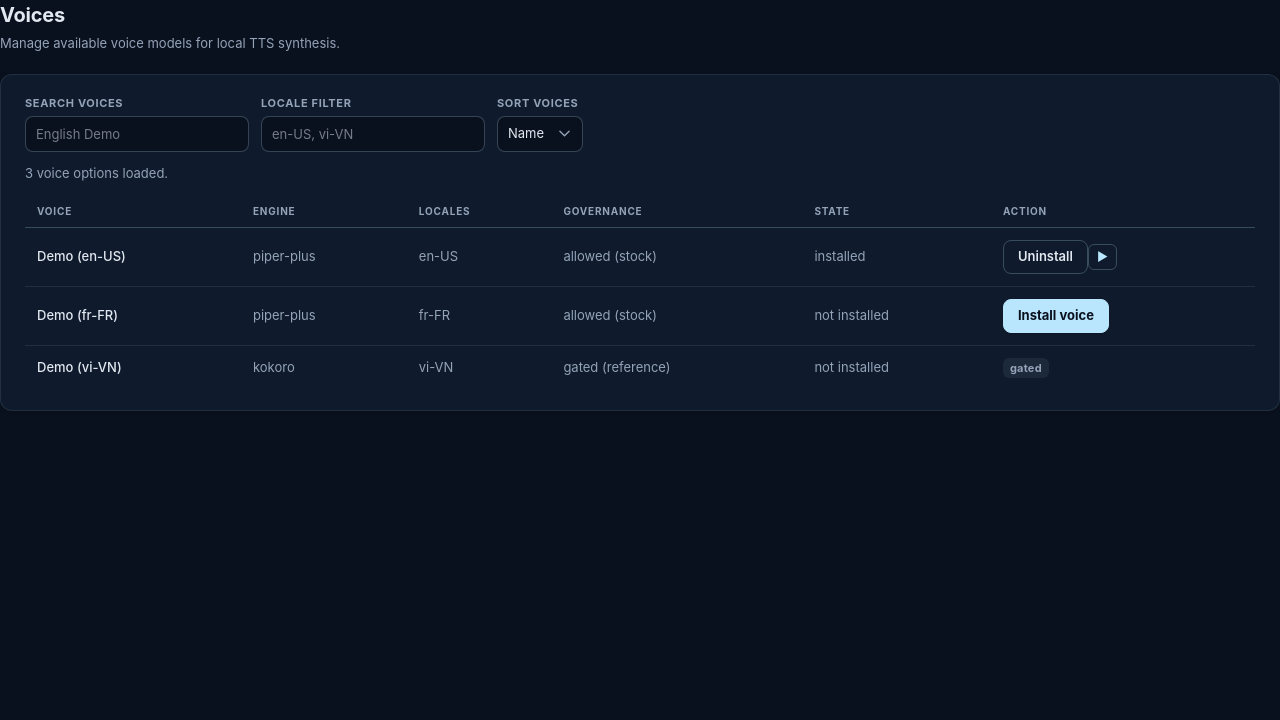
VoicesPanel › supports search, sort, and install polling states
Expected: the text "Demo (vi-VN)" is shown, [25, 345, 241, 390]
Select "Engine" in the dropdown labelled "Sort voices": (540, 134) [497, 116, 583, 152]
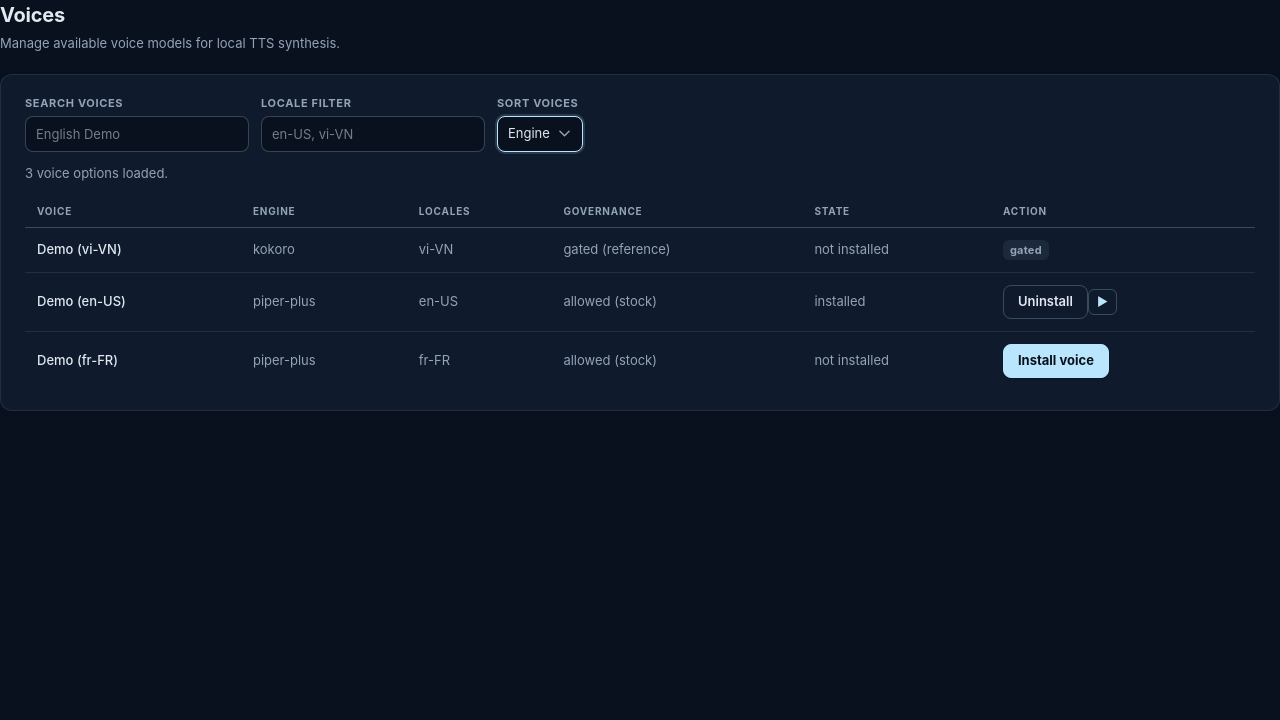
In the field labelled "Search voices": (137, 134) [25, 116, 249, 152], type "fr-FR"
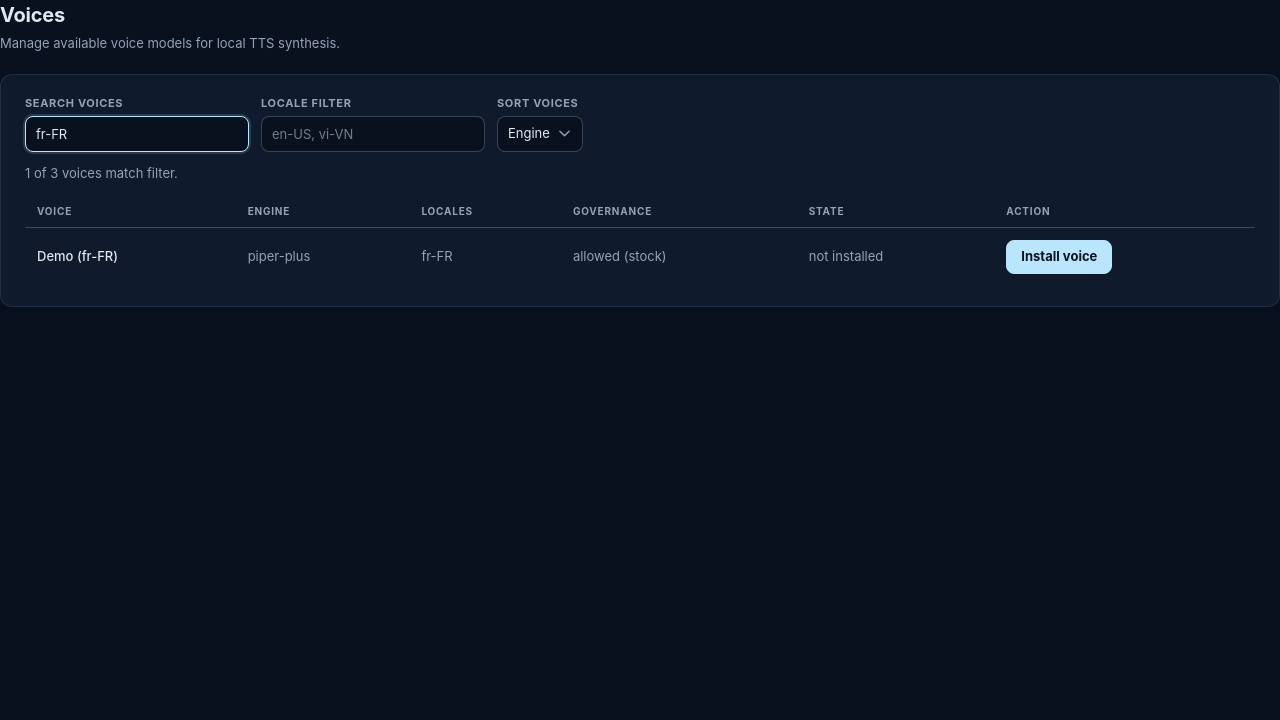
Expected: the text "Demo (en-US)" is not shown
Expected: the text "Demo (vi-VN)" is not shown
Click the button "Install voice": click(1059, 256) [1006, 240, 1112, 274]
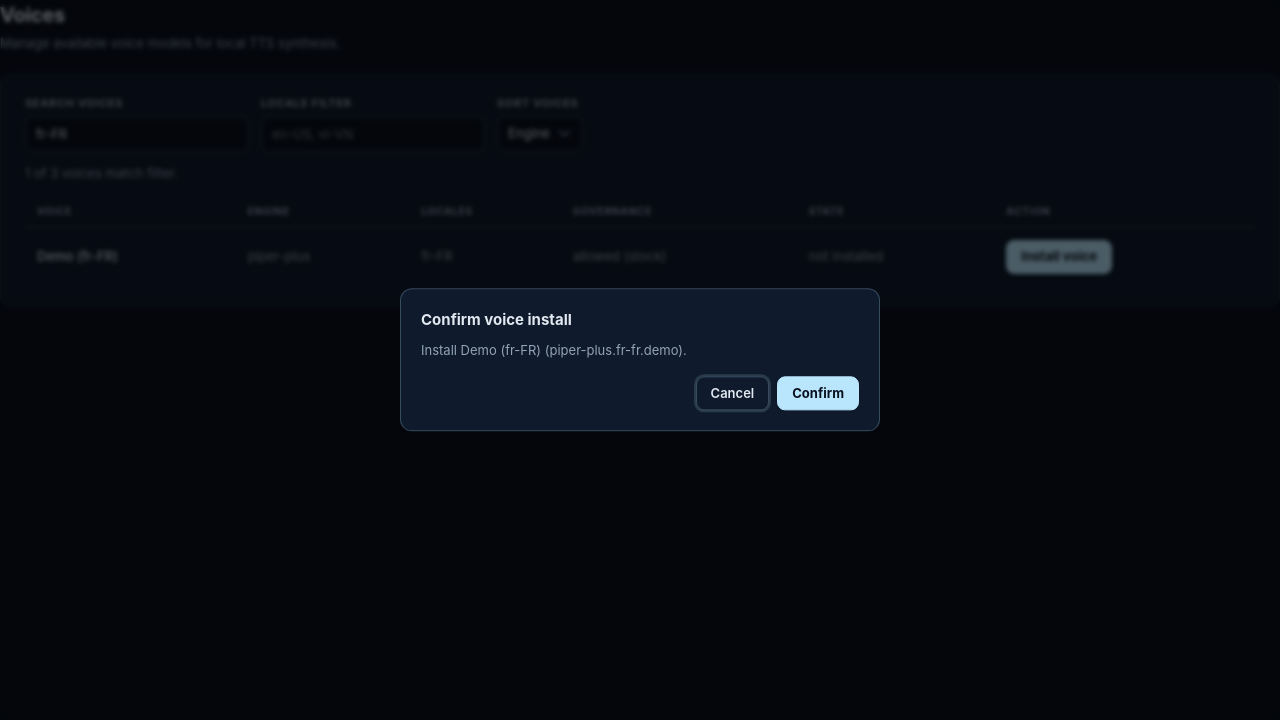
Expected: the heading "Confirm voice install" is shown, [421, 310, 572, 329]
Click the button "Confirm": click(818, 394) [777, 377, 859, 411]
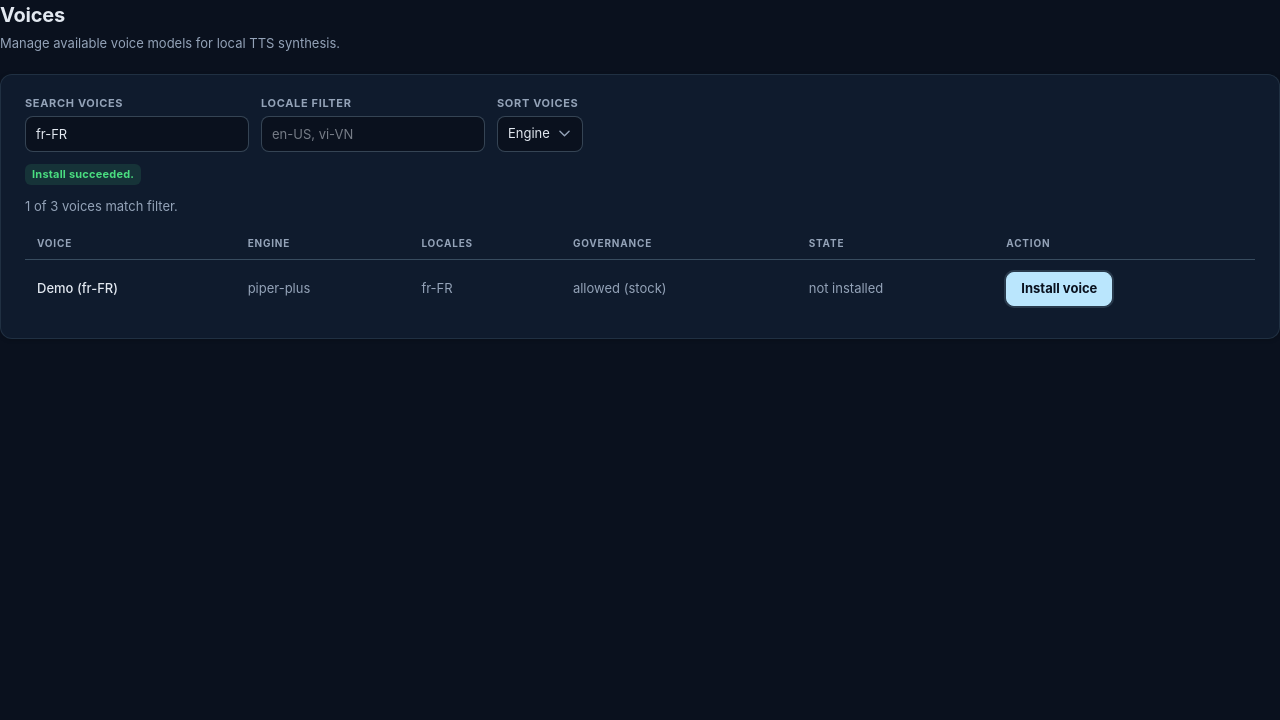
Expected: the text "Install succeeded." is shown, [25, 164, 141, 184]
